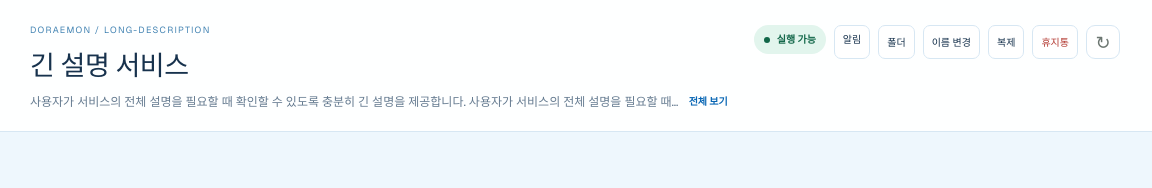
Test case: 서비스 헤더에서 긴 설명을 펼치고 다시 접을 수 있다
Click the button "전체 보기" at (708, 102), box left=689, top=92, right=728, bottom=111
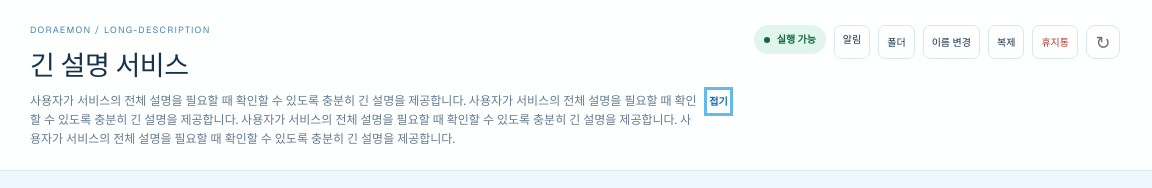
Now the button "접기" is expanded, box left=709, top=92, right=728, bottom=111
